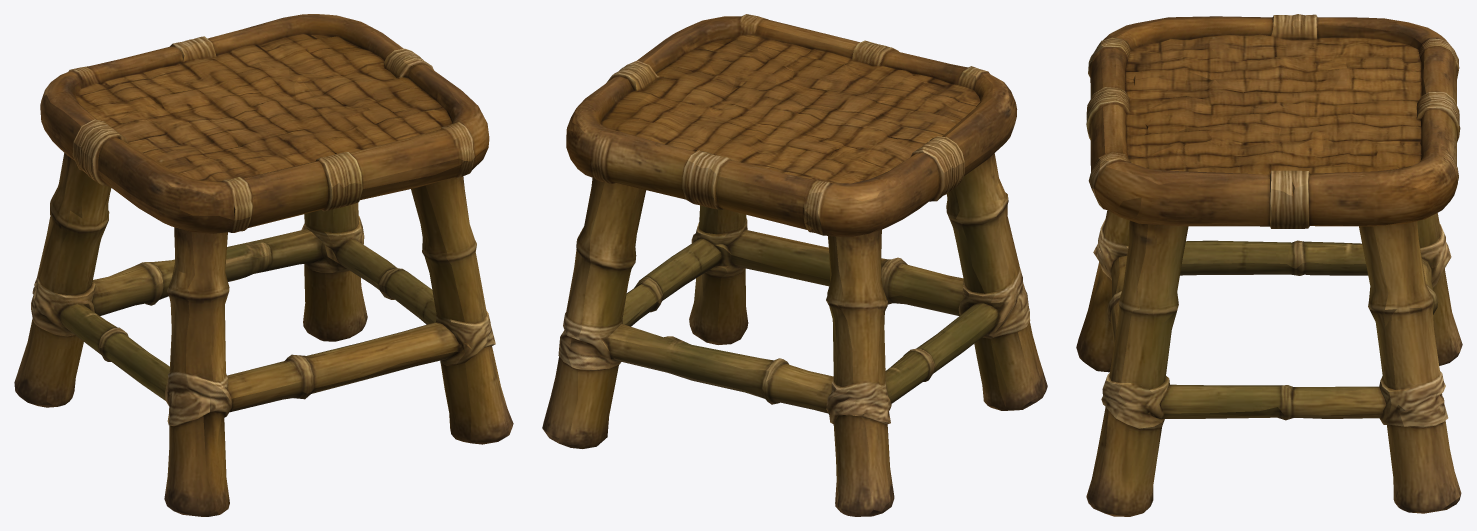
The model's file is stool.glb.
3 renders of one model, left to right at view 1: azimuth 30°, elevation 25°; view 2: azimuth 150°, elevation 25°; view 3: azimuth 270°, elevation 25°, orthographic. The views are drawn at different scales.
Visible parts, largest first — view 1: world; view 2: world; view 3: world.
Boxes of the visible parts, x1,y1,x2,y2 form: world: (14,14,513,516); world: (542,14,1047,516); world: (1076,14,1462,516).
Size of the model in its own units: 1.01 by 0.9061 by 0.9261.
Materials: 1 (1 with a texture image).
